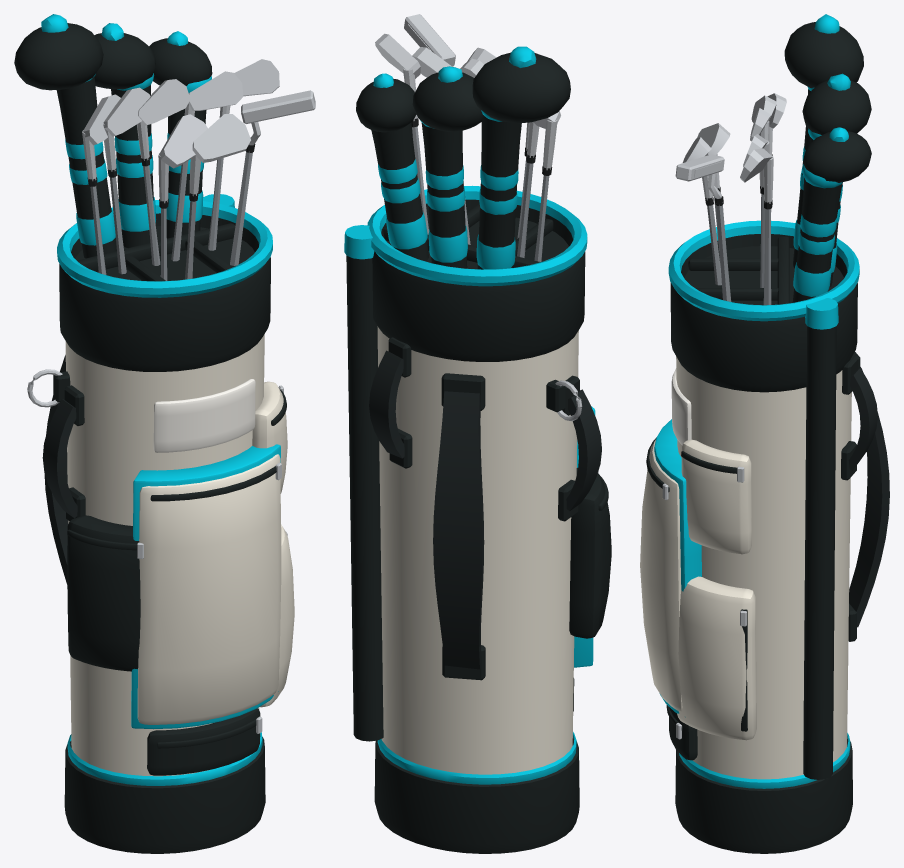
The model's file is GolfBag_Cart.fbx.
3 renders of one model, left to right at view 1: azimuth 30°, elevation 25°; view 2: azimuth 150°, elevation 25°; view 3: azimuth 270°, elevation 25°, orthographic. The views are drawn at different scales.
Parts seen in each view (by area): view 1: GolfBag_Cart; view 2: GolfBag_Cart; view 3: GolfBag_Cart.
Boxes of the visible parts, x1,y1,x2,y2 form: GolfBag_Cart: (14, 14, 315, 853); GolfBag_Cart: (344, 14, 611, 853); GolfBag_Cart: (640, 14, 889, 853).
Size of the model in its own units: 0.3785 by 1.25 by 0.3696.
